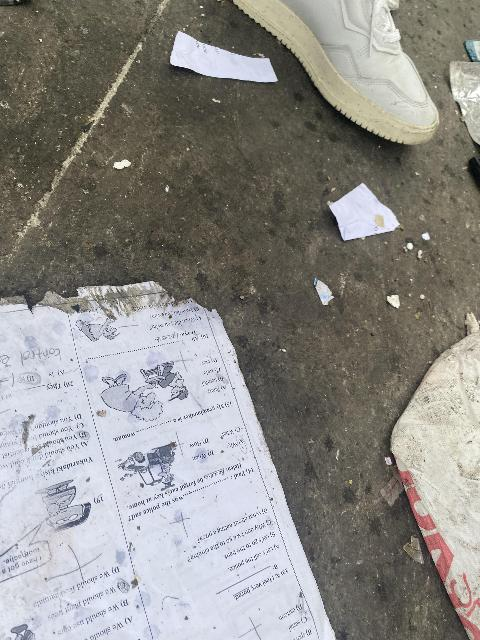Kagit: (0, 278, 337, 640), (171, 32, 278, 83), (329, 182, 402, 244)
Plastik: (383, 313, 480, 640)
